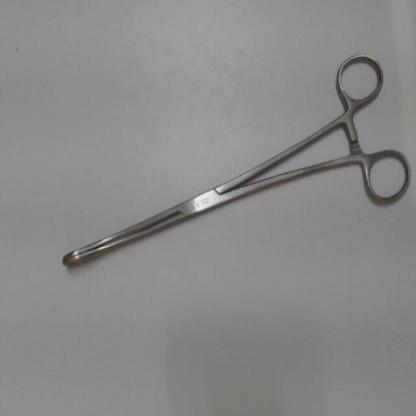Sponge Forceps: (50, 43, 414, 279)
